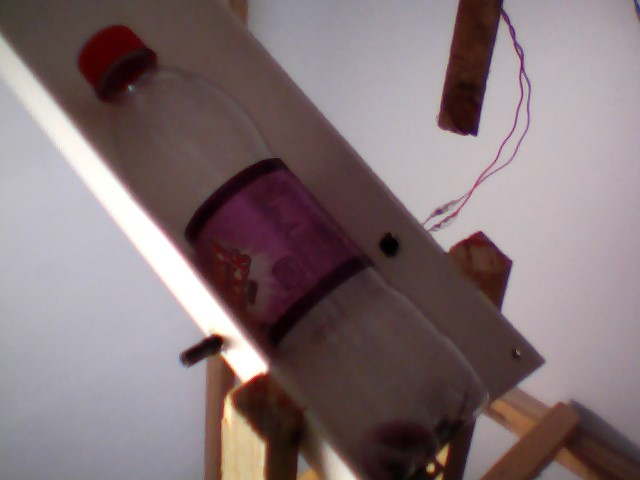plastico: (74, 13, 504, 473)
